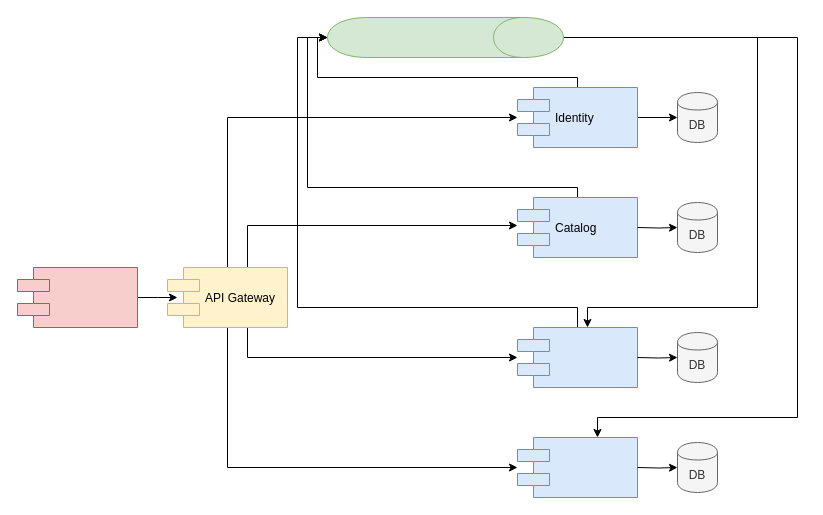
The diagram is 823 pixels wide and 515 high, and some of its shapes have lost their labels. The shapes that lost their labels are listed below. From the top down, each one's centre as x and y in pixels, then its label:
the point at 445,37: Message Broker
the point at 77,297: Web
the point at 577,357: Ordering
the point at 577,467: Analytics
